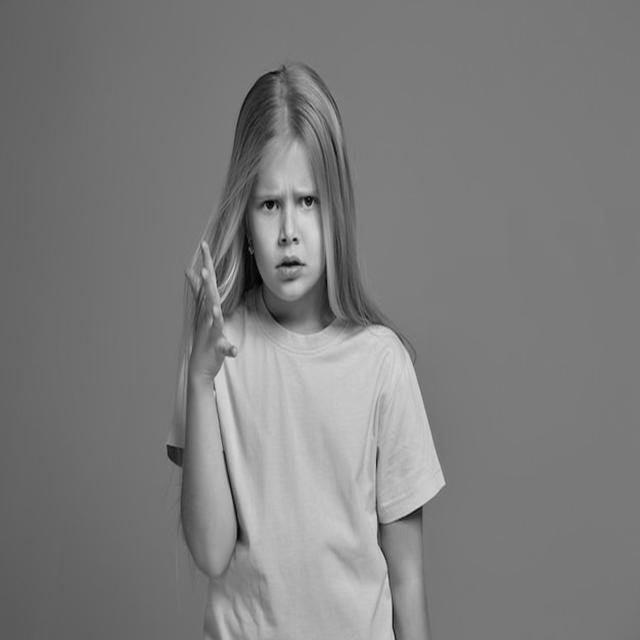Angry: (248, 131, 329, 302)
